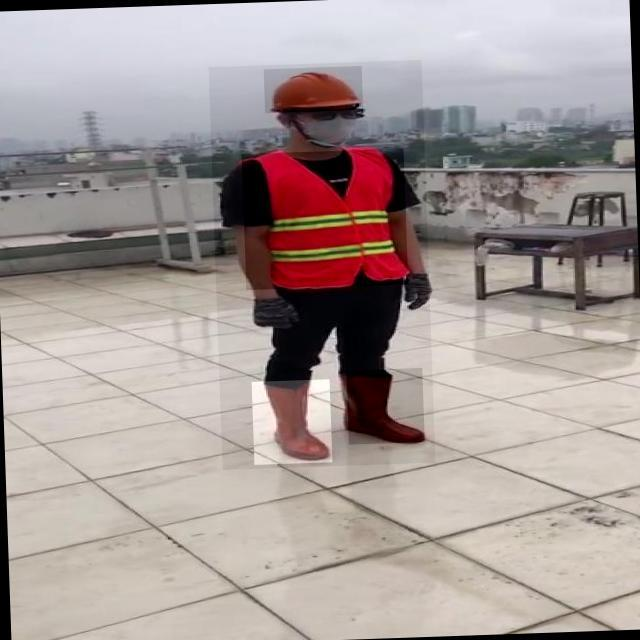Helmet: (264, 66, 363, 113)
Human: (208, 60, 435, 470)
Safety Boot: (251, 379, 332, 466), (346, 368, 424, 445)
Safety Vest: (241, 148, 408, 290)
